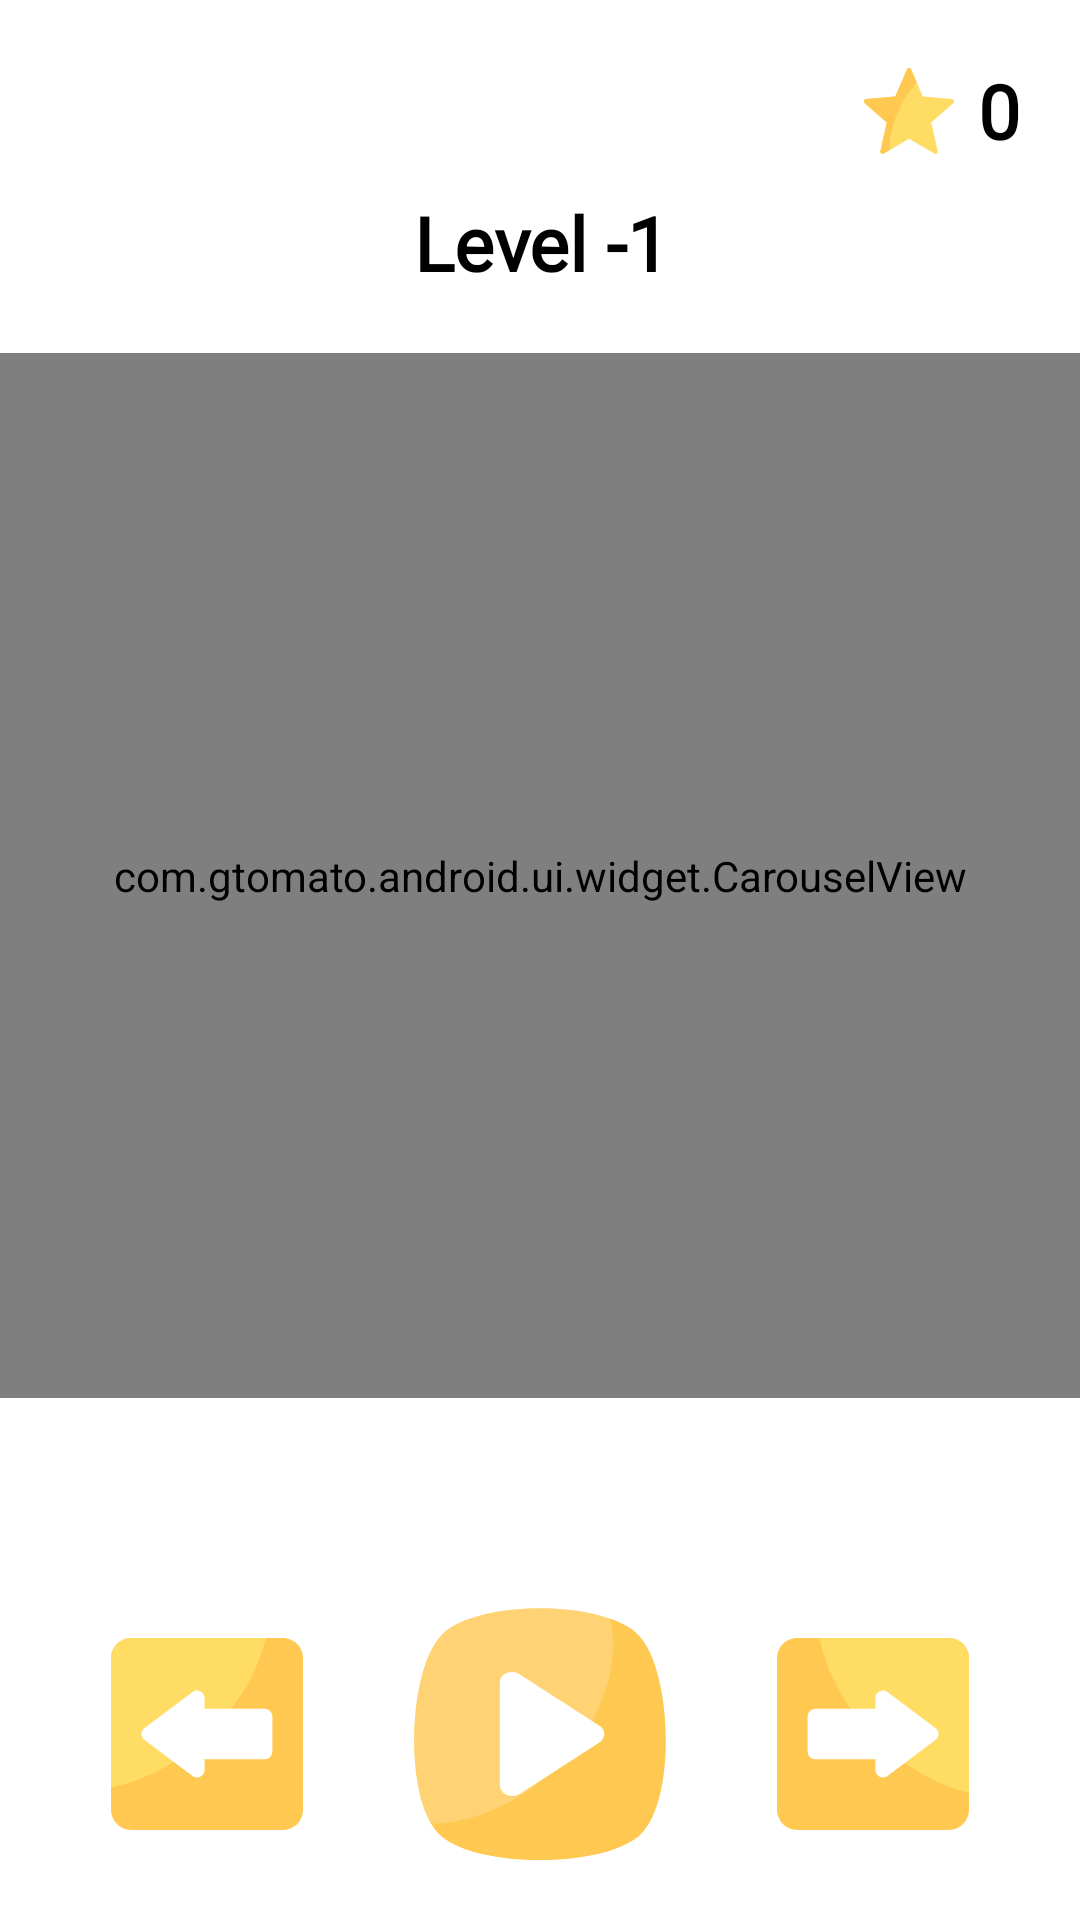

Locate icon controls on the screen. Image size 1080×1920, boxes as {"left": x1, "top": y1, "right": x2, "bottom": y2}.
left arrow: {"left": 111, "top": 1638, "right": 303, "bottom": 1830}
play: {"left": 414, "top": 1608, "right": 666, "bottom": 1860}
right arrow: {"left": 777, "top": 1638, "right": 969, "bottom": 1830}
star: {"left": 864, "top": 68, "right": 954, "bottom": 154}
